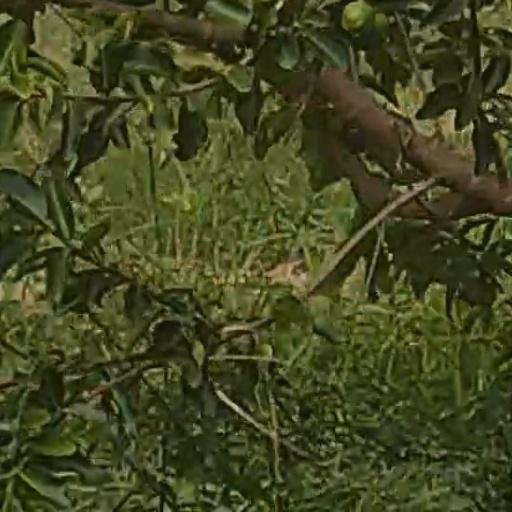acerola: (340, 4, 374, 37)
